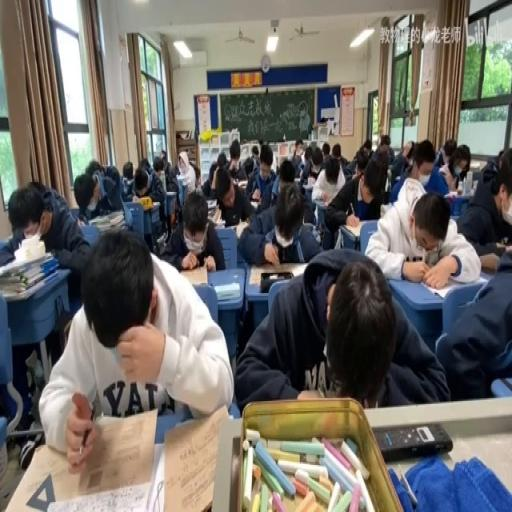calculator: (161, 402, 230, 510), (248, 263, 302, 286), (422, 277, 474, 299), (480, 248, 510, 272), (176, 263, 208, 285), (214, 280, 240, 300), (344, 218, 365, 236), (164, 188, 176, 214), (312, 194, 332, 208), (445, 189, 468, 201), (235, 219, 249, 238), (154, 232, 166, 253), (208, 205, 222, 222), (334, 227, 343, 249), (300, 220, 314, 232), (302, 176, 316, 188), (205, 196, 217, 209), (149, 199, 159, 209), (237, 179, 248, 188), (176, 174, 186, 182), (249, 201, 258, 209), (294, 176, 300, 184)
paper: (42, 226, 232, 469), (233, 247, 442, 411), (365, 178, 480, 286), (437, 237, 510, 397), (4, 178, 90, 288), (238, 178, 320, 262), (324, 155, 386, 246), (158, 189, 225, 273), (205, 164, 254, 226), (128, 164, 167, 238), (84, 165, 131, 225), (402, 140, 436, 186), (345, 141, 370, 176), (155, 151, 178, 185), (225, 138, 244, 179), (373, 132, 394, 168), (288, 140, 306, 174), (387, 150, 407, 180), (435, 138, 456, 166), (481, 150, 499, 180), (277, 158, 294, 186), (258, 148, 274, 175), (84, 159, 102, 178), (325, 163, 339, 185), (188, 161, 200, 186), (206, 162, 217, 188), (134, 178, 148, 198), (122, 159, 134, 181), (244, 156, 254, 180), (498, 148, 506, 171), (138, 158, 150, 173), (312, 155, 322, 172), (216, 152, 226, 168), (331, 142, 341, 158), (303, 145, 312, 161), (322, 142, 330, 158), (251, 144, 259, 156), (160, 149, 166, 161)
person: (373, 422, 452, 462), (314, 222, 324, 242), (494, 240, 510, 250)
